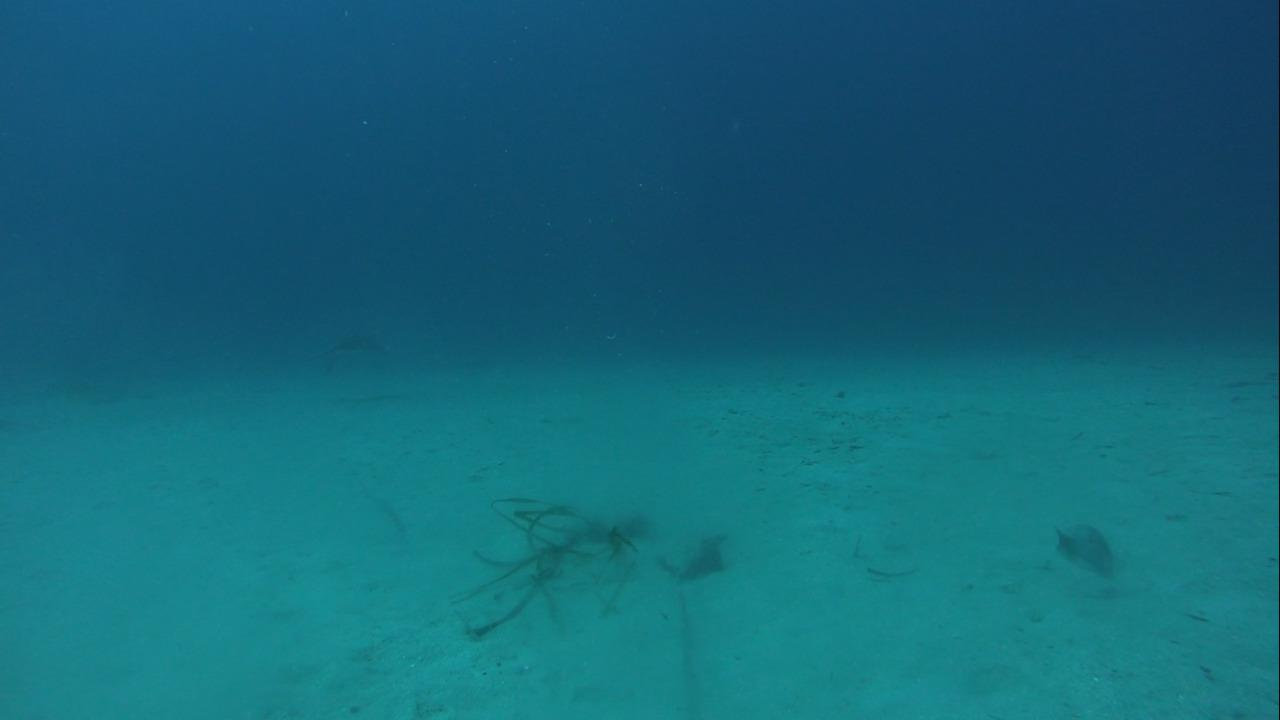myliobatis: (301, 311, 401, 384)
raor: (1045, 512, 1120, 578)
